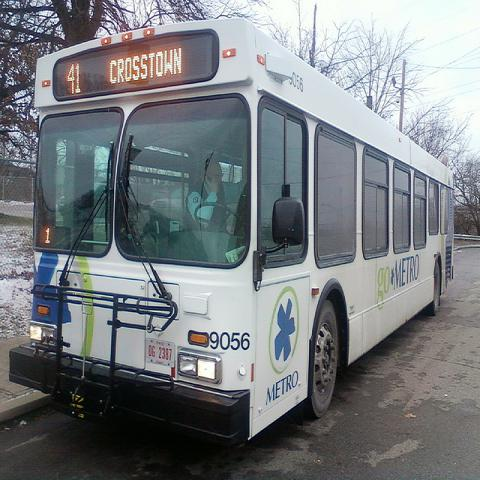bus: (8, 16, 456, 449)
